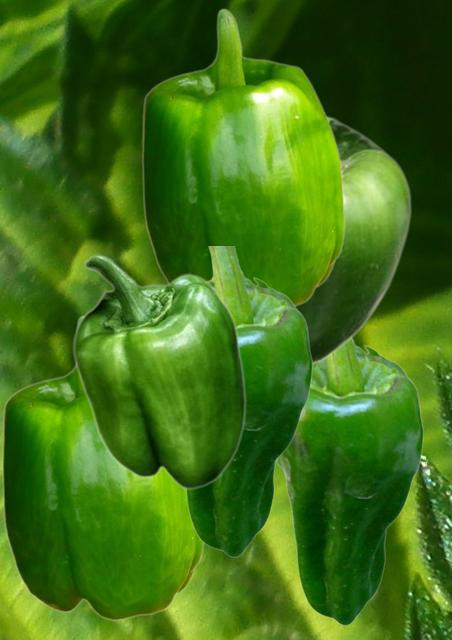bell_pepper: (1, 315, 204, 620), (141, 8, 344, 306), (276, 339, 423, 625), (72, 254, 246, 489), (185, 246, 312, 557), (297, 115, 411, 365)
